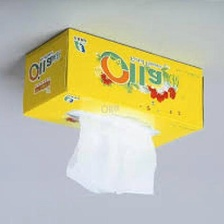book: (17, 23, 209, 153)
tissue: (59, 107, 162, 201)
